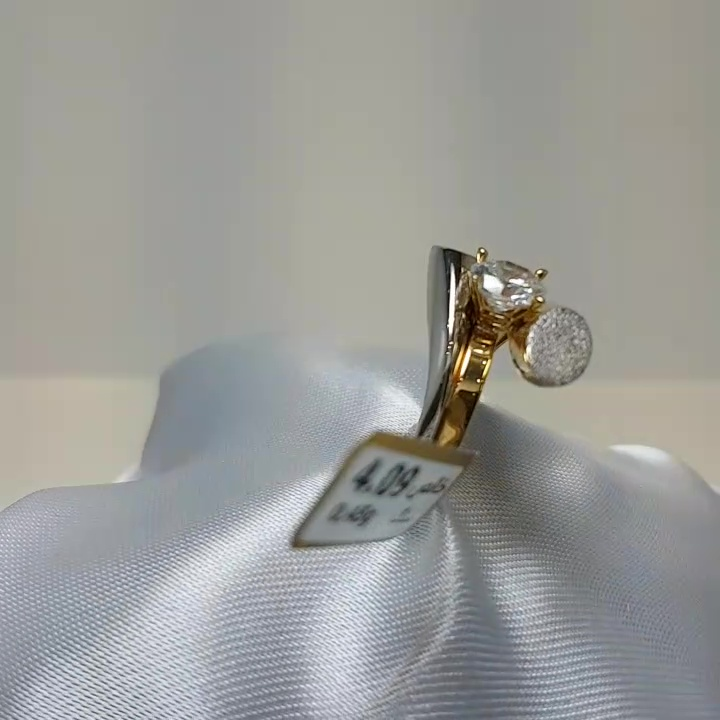Ring 7: (377, 226, 612, 486)
